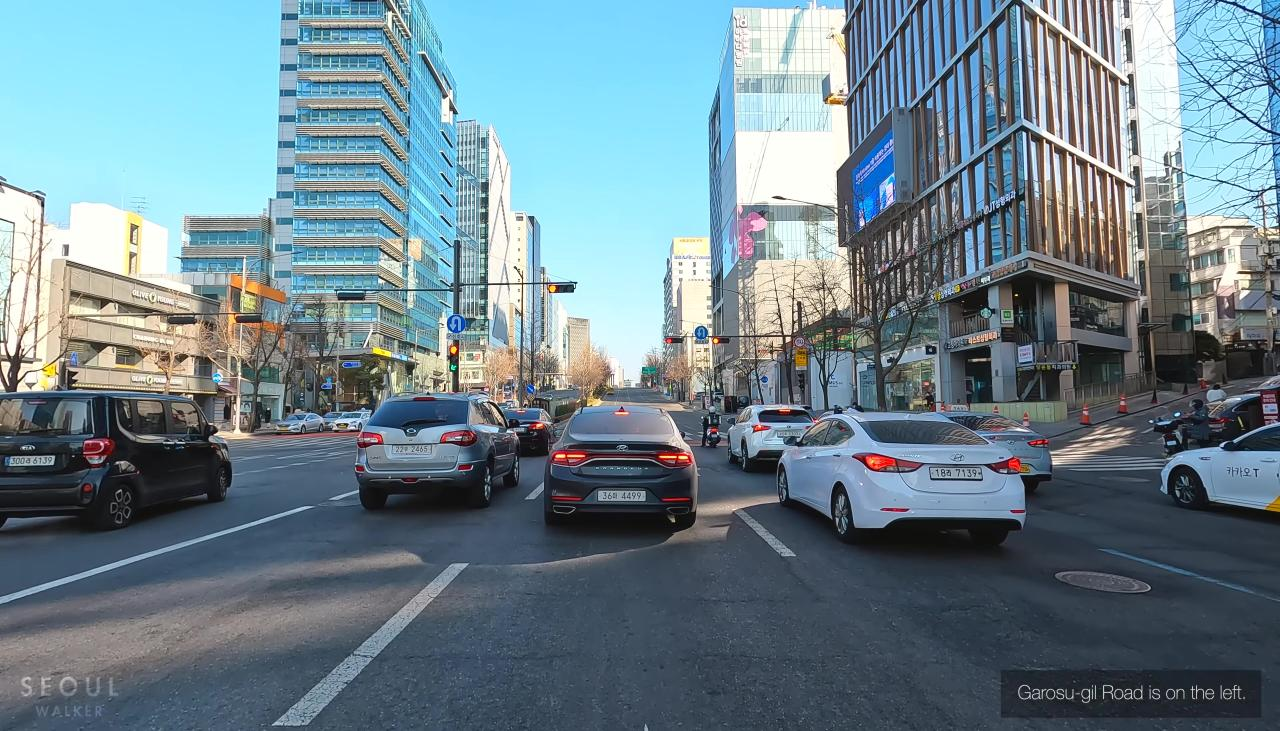Red Light: (548, 284, 557, 293), (665, 337, 673, 344), (712, 338, 720, 344)
